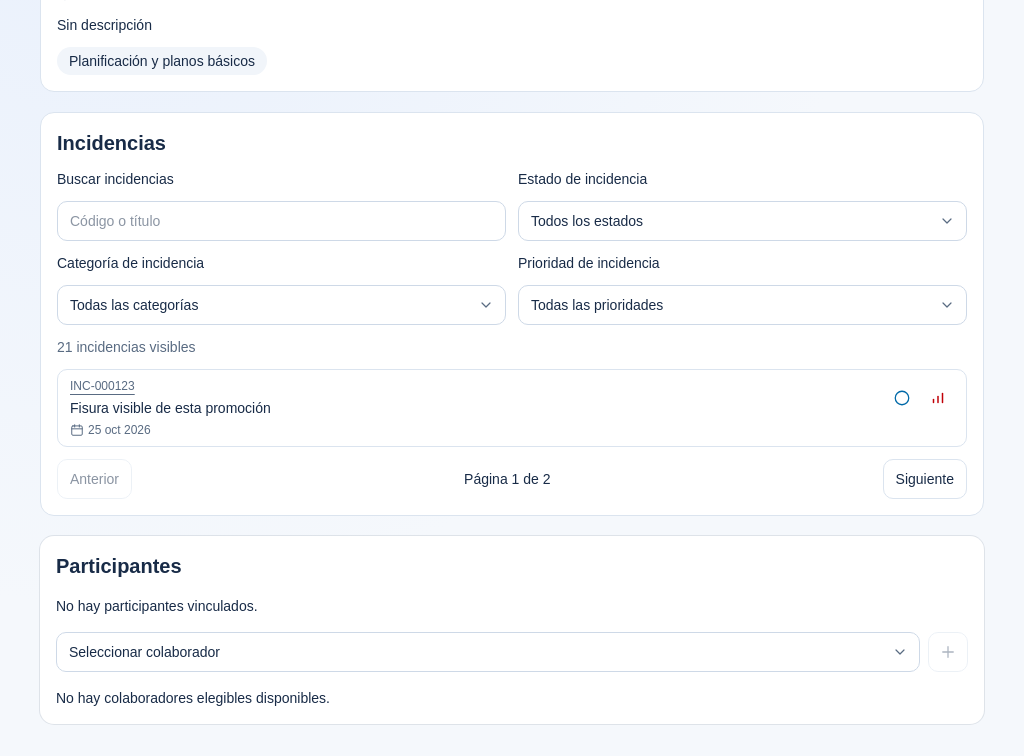
Test: recovers from a later page when visible results shrink to 0 pages
(page scrolled)
Expected: the link "INC-000123" is shown, left=70, top=379, right=135, bottom=393
Click the button with aria-label "Siguiente página de incidencias": (925, 479) left=883, top=459, right=967, bottom=499
(page scrolled)
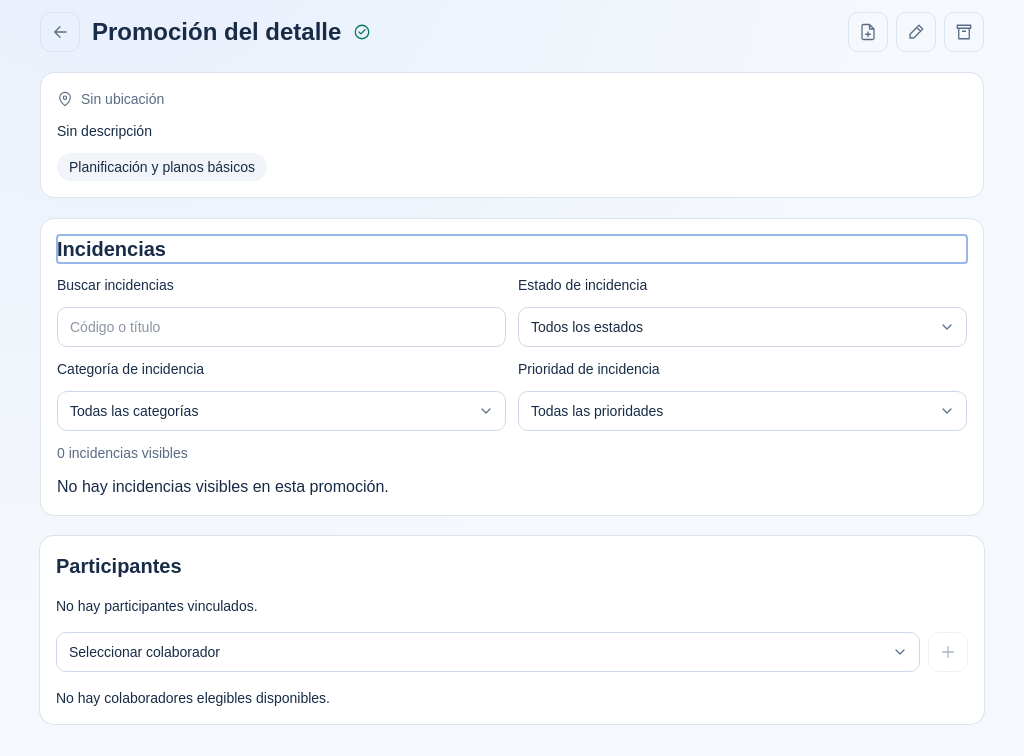
Now the text "No hay incidencias visibles en esta promoción." is shown, box left=57, top=478, right=389, bottom=495
